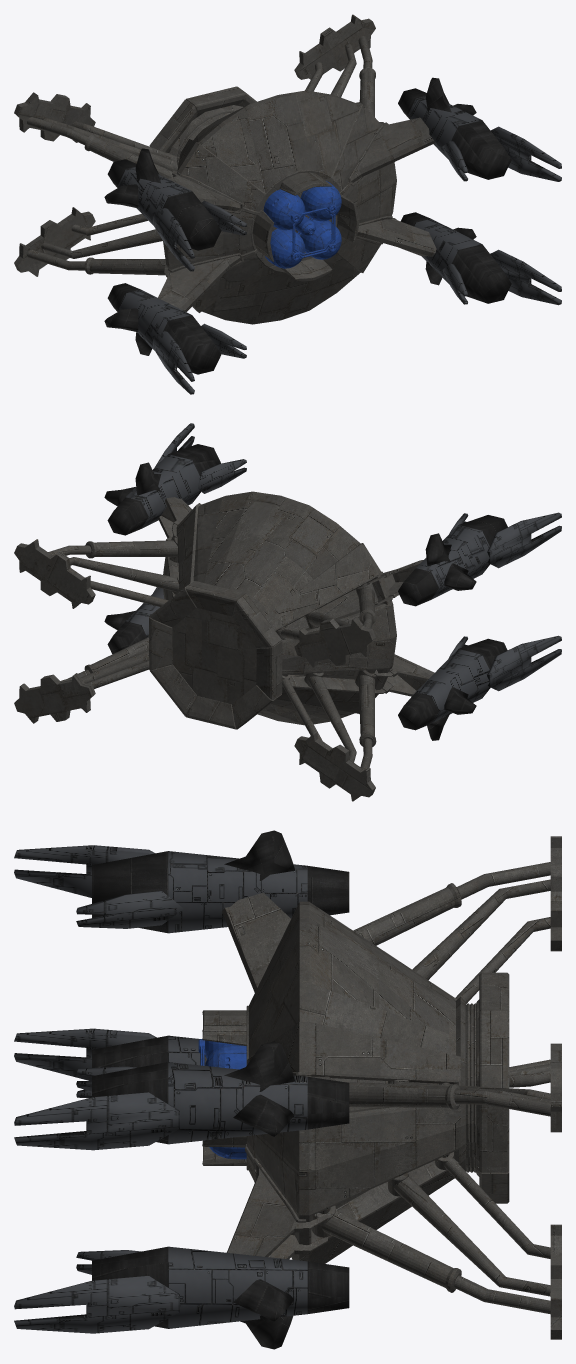
File: breaching-pod.glb
3 views of the same model, one above another, from view 1: azimuth 30°, elevation 25°; view 2: azimuth 150°, elevation 25°; view 3: azimuth 270°, elevation 25° (orthographic). The views are drawn at different scales.
Parts seen in each view (by area): view 1: starfury; view 2: starfury; view 3: starfury.
Part boxes in pixels (x1,y1,x2,y2): starfury: (14, 14, 561, 394); starfury: (14, 423, 561, 801); starfury: (14, 830, 561, 1349).
Size of the model in its own units: 4.84 by 2.78 by 4.15.
4 materials, 4 textured.
